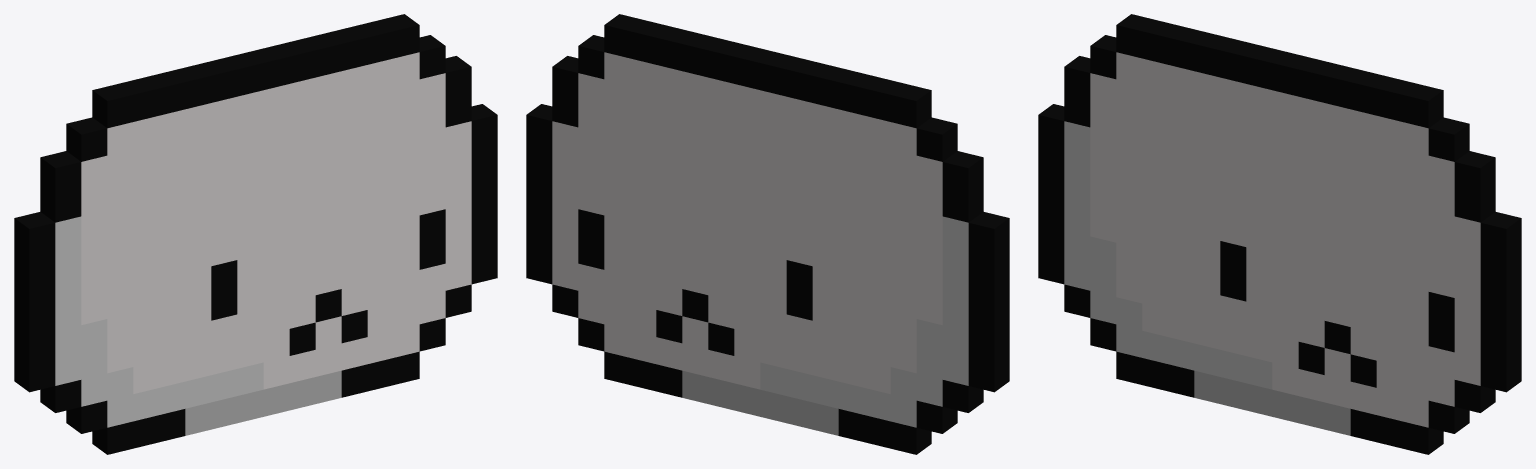
File: test3-0-Head.obj
3 views of the same model, side by side, from view 1: azimuth 30°, elevation 25°; view 2: azimuth 150°, elevation 25°; view 3: azimuth 330°, elevation 25° (orthographic).
Parts seen in each view (by area): view 1: Head; view 2: Head; view 3: Head.
Boxes of the visible parts, x1,y1,x2,y2 form: Head: (14,14,497,454); Head: (526,14,1009,454); Head: (1038,14,1521,454).
Bounding box in the file's own units: 1.8 × 1.3 × 0.1.
Materials: 1 (1 with a texture image).
